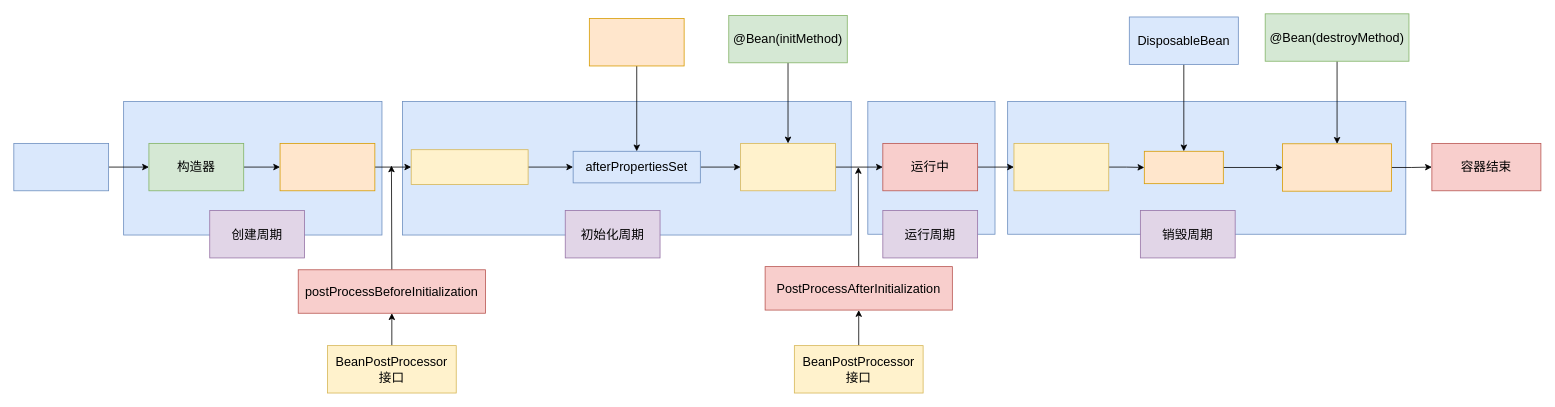
Image size: 1555x407. Some labels were removed from this diagram. Here are the shapes that lost their labels. From the top down, the centre of each, then its label:
(636,42): InitializingBean 接口
(61,167): 创建组件
(327,167): @AutoWired set 属性注入
(469,166): @PostConstructed
(787,167): init 指定初始化方法
(1061,167): PreDestroy
(1183,167): destroy
(1337,167): destroy指定销毁方法
